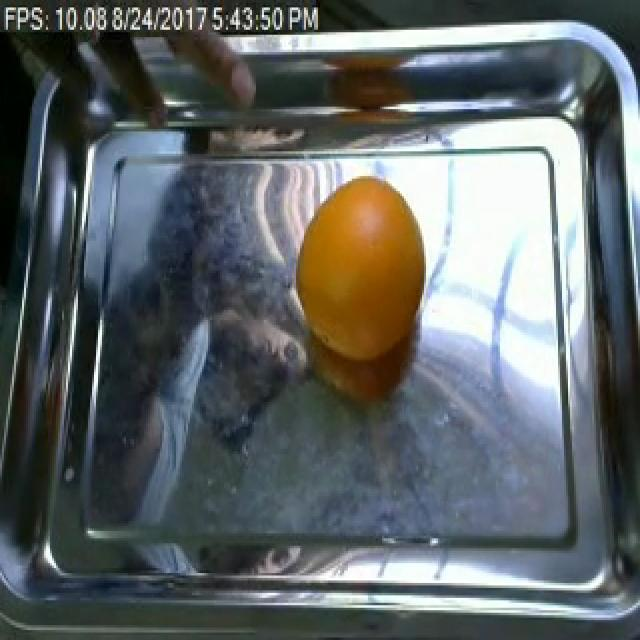Fruit: (288, 174, 430, 372)
